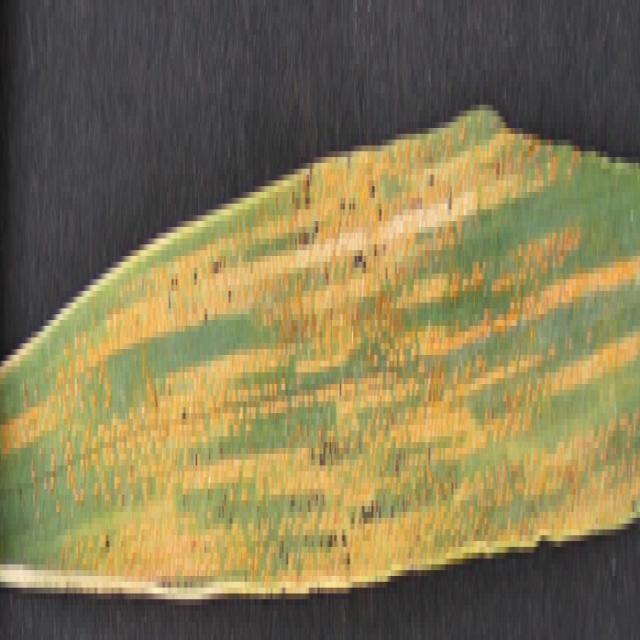leaf rust: (10, 122, 640, 599)
